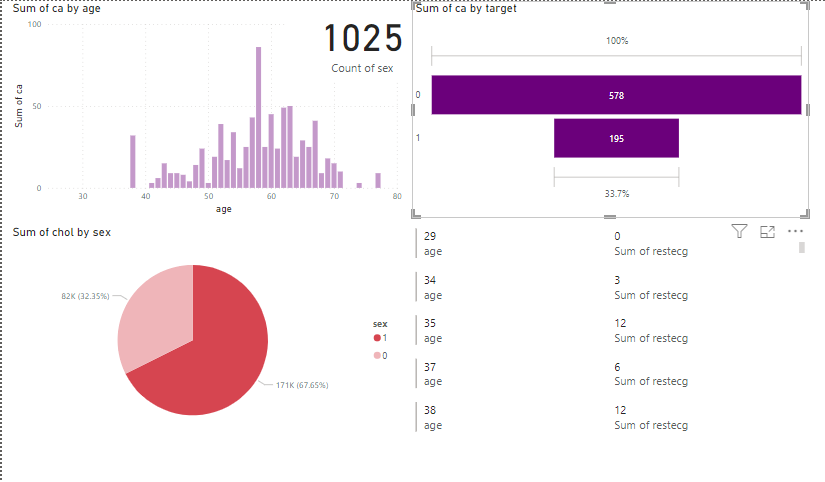

This screenshot's page, from the dashboard's own definition file:
{"tool":"powerbi","page":{"name":"Page 1","canvas":[1280,720],"ordinal":0},"visuals":[{"type":"lineStackedColumnComboChart","fields":{"Category":["Heart Disease data.age"],"Y":["Sum(Heart Disease data.ca)"]},"box":[10,0,566.2,310],"z":0},{"type":"pieChart","fields":{"Category":["Heart Disease data.sex"],"Y":["Sum(Heart Disease data.chol)"]},"box":[10,320,566,310],"z":1000},{"type":"card","fields":{"Values":["CountNonNull(Heart Disease data.sex)"]},"box":[407.5,0,215,112.5],"z":2000},{"type":"multiRowCard","fields":{"Values":["Heart Disease data.age","Sum(Heart Disease data.restecg)"]},"box":[586,320,566,310],"z":2002},{"type":"funnel","fields":{"Category":["Heart Disease data.target"],"Y":["Sum(Heart Disease data.ca)"]},"box":[586.2,0,566.2,310],"z":2003}]}

Visuals, with their boxes on the page's 1280x720 design canvas (x1, y1, x2, y2). These are canvas units, not pixel positions in the 825x482 screenshot, which may show the page scaled, cropped or inside an application window:
lineStackedColumnComboChart - Heart Disease data.age x Sum(Heart Disease data.ca): (10, 0, 576, 310)
pieChart - Heart Disease data.sex x Sum(Heart Disease data.chol): (10, 320, 576, 630)
card - CountNonNull(Heart Disease data.sex): (408, 0, 622, 112)
multiRowCard - Heart Disease data.age x Sum(Heart Disease data.restecg): (586, 320, 1152, 630)
funnel - Heart Disease data.target x Sum(Heart Disease data.ca): (586, 0, 1152, 310)
